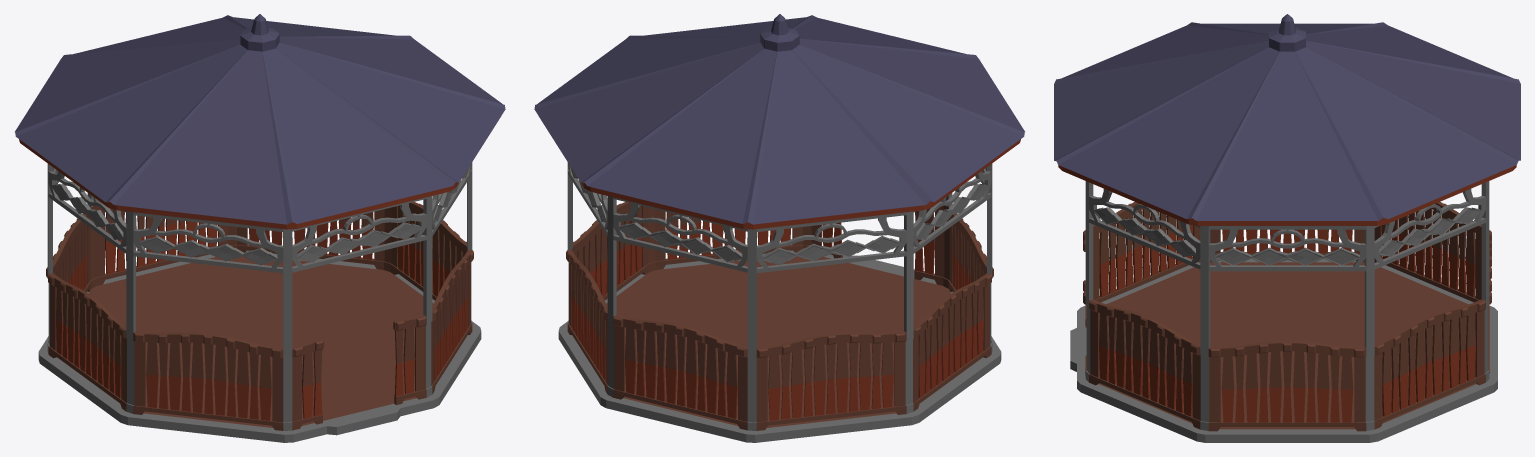
The model's file is Puisto_Gazebo.fbx.
3 renders of one model, left to right at view 1: azimuth 30°, elevation 25°; view 2: azimuth 150°, elevation 25°; view 3: azimuth 270°, elevation 25°, orthographic.
Visible parts, largest first — view 1: Circle.002; view 2: Circle.002; view 3: Circle.002.
Boxes of the visible parts, x1,y1,x2,y2 form: Circle.002: (15, 14, 505, 442); Circle.002: (534, 14, 1024, 442); Circle.002: (1054, 14, 1520, 442).
Size of the model in its own units: 512 by 412 by 512.
